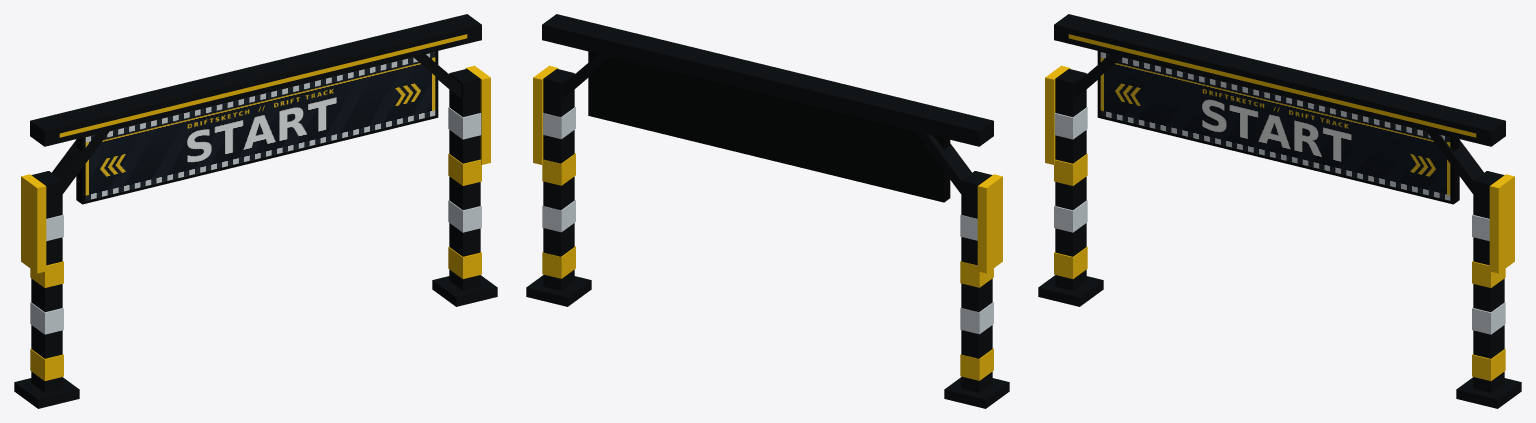
Rendered from gate_start.dae.
3 views of the same model, side by side, from view 1: azimuth 30°, elevation 25°; view 2: azimuth 150°, elevation 25°; view 3: azimuth 330°, elevation 25° (orthographic).
Visible parts, largest first — view 1: gate_start; view 2: gate_start; view 3: gate_start.
Part boxes in pixels (x1,y1,x2,y2): gate_start: (14,14,497,408); gate_start: (526,14,1009,408); gate_start: (1038,14,1521,408).
Bounding box in the file's own units: 6.2 × 0.56 × 3.5.
Materials: 5 (1 with a texture image).
